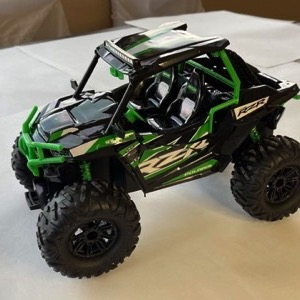polaris: (12, 21, 298, 281)
